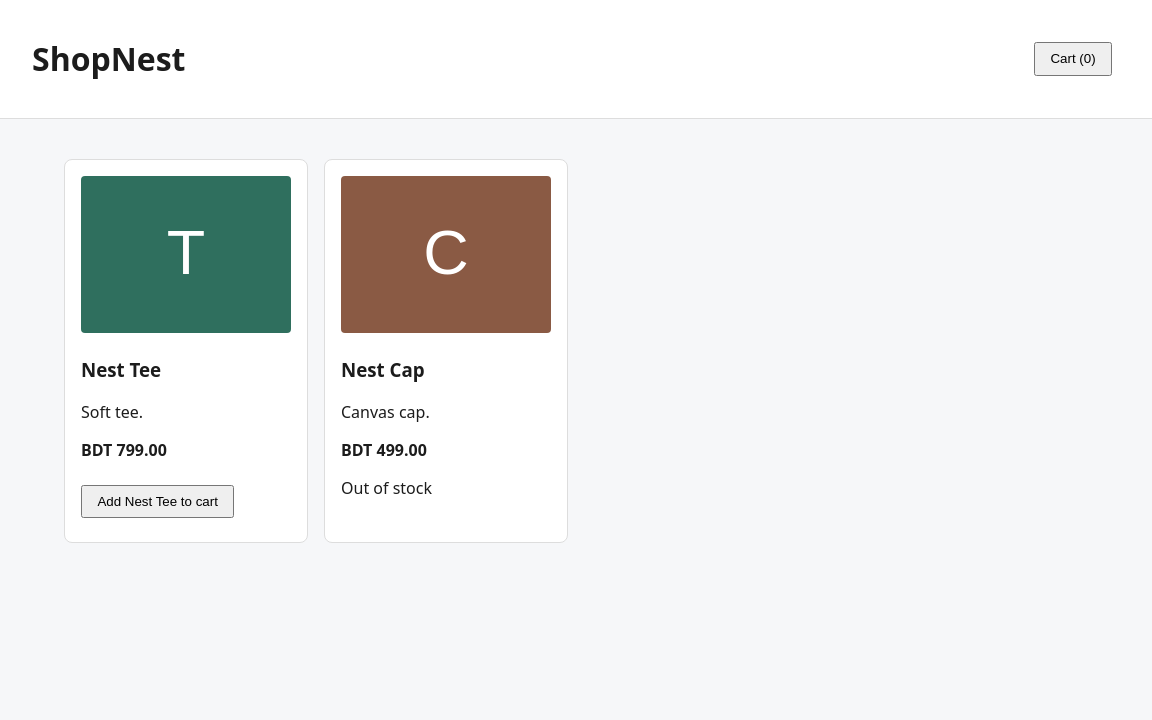
cart and checkout flow › blocks submission and shows errors for invalid customer details
This screenshot has width=1152, height=720.
What coordinates should you click on to do the following:
click the button "Add Nest Tee to cart"
I would click on:
 (158, 502)
Its box is left=81, top=485, right=234, bottom=518.
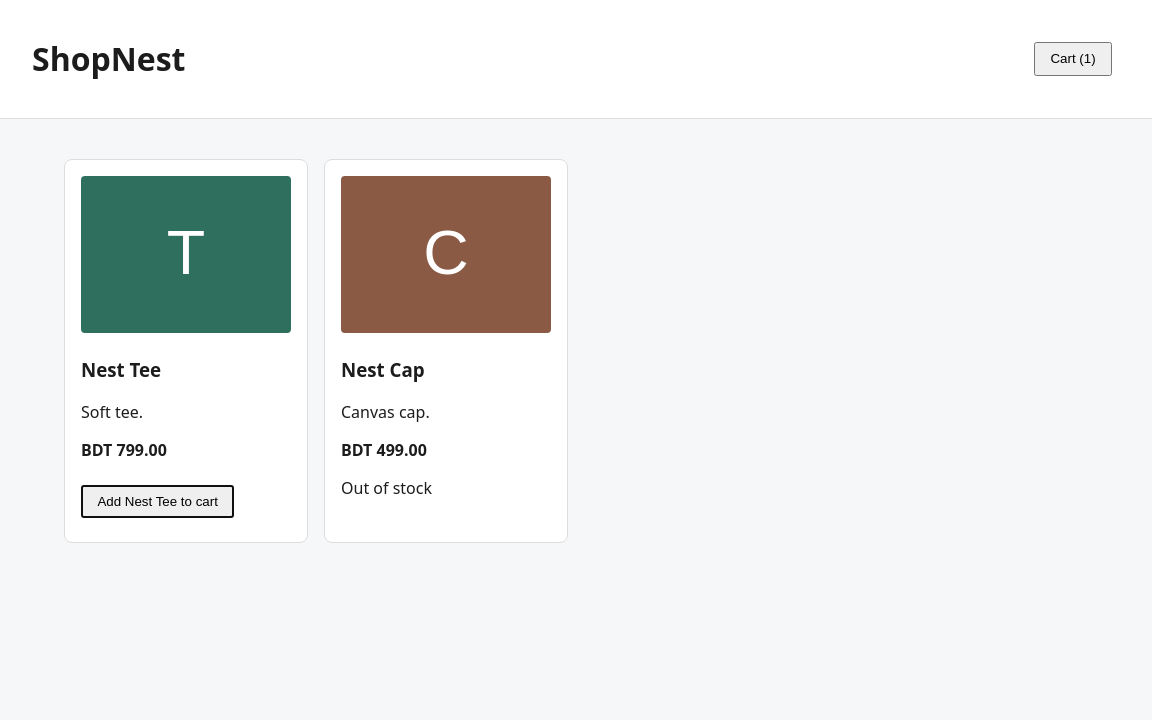
What coordinates should you click on to do the following:
click the button "Cart (1)"
I would click on:
 (1073, 59)
Its box is left=1034, top=42, right=1112, bottom=76.
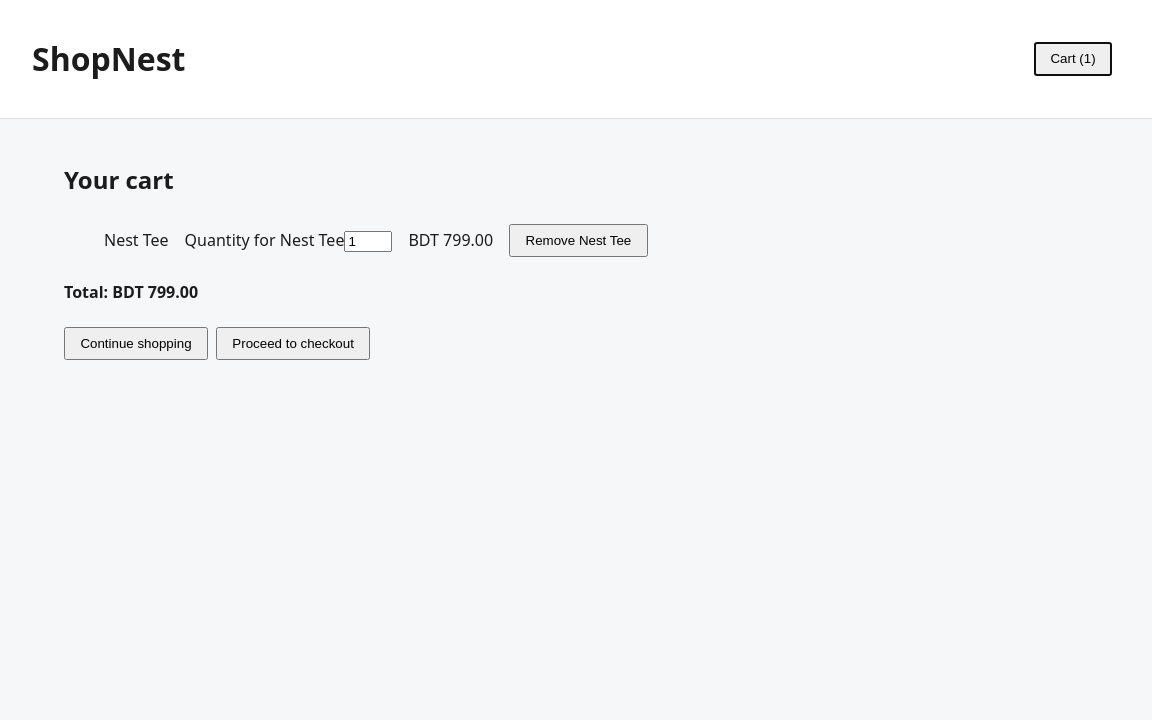
What coordinates should you click on to do the following:
click the button "Proceed to checkout"
I would click on:
 (293, 344)
Its box is left=216, top=327, right=370, bottom=360.
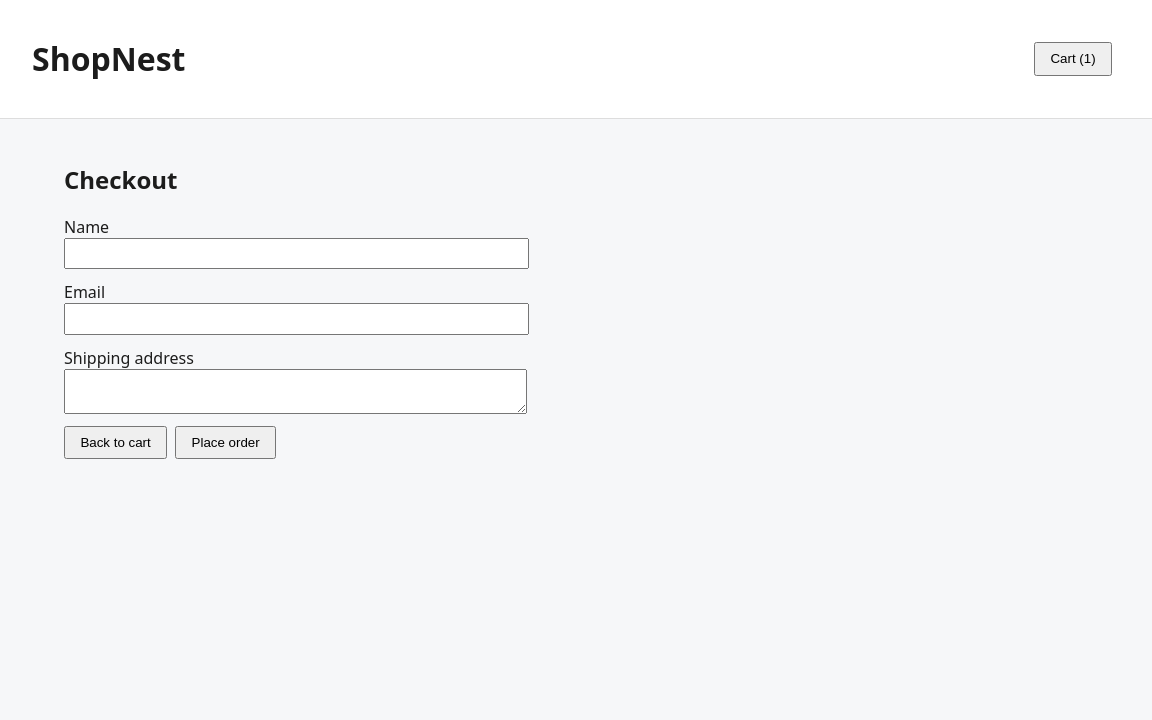
What coordinates should you click on to do the following:
click the button "Place order"
I would click on:
 (226, 443)
Its box is left=175, top=426, right=276, bottom=459.
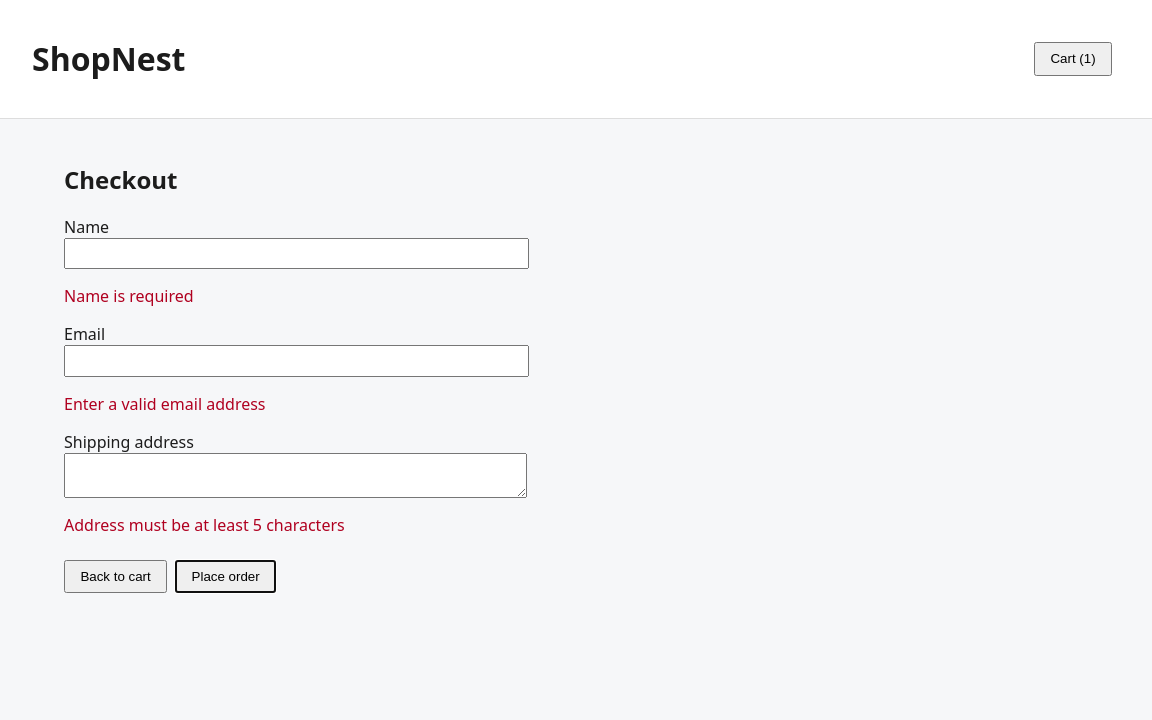
Now the text "Name is required" is shown, box left=64, top=286, right=194, bottom=308
Now the text "Enter a valid email address" is shown, box left=64, top=393, right=266, bottom=415
